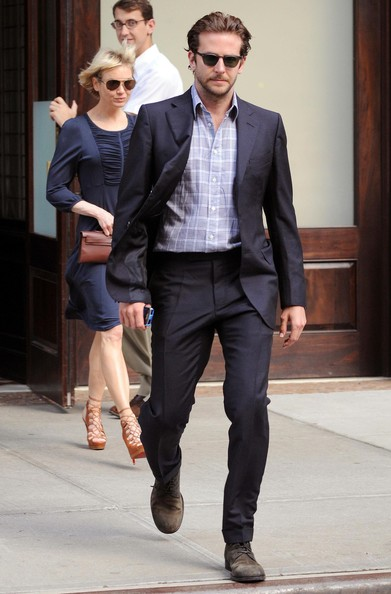Person: (105, 12, 308, 585), (44, 36, 151, 465)
